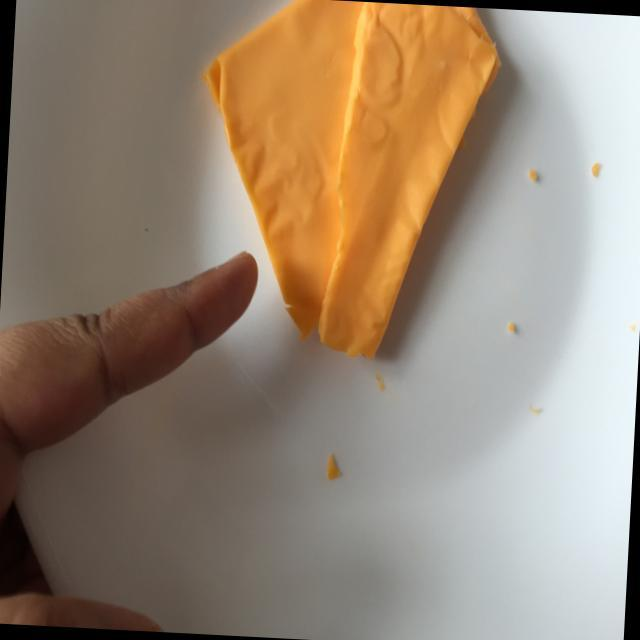Cheese: (187, 0, 509, 377)
Finger: (110, 238, 264, 404)
